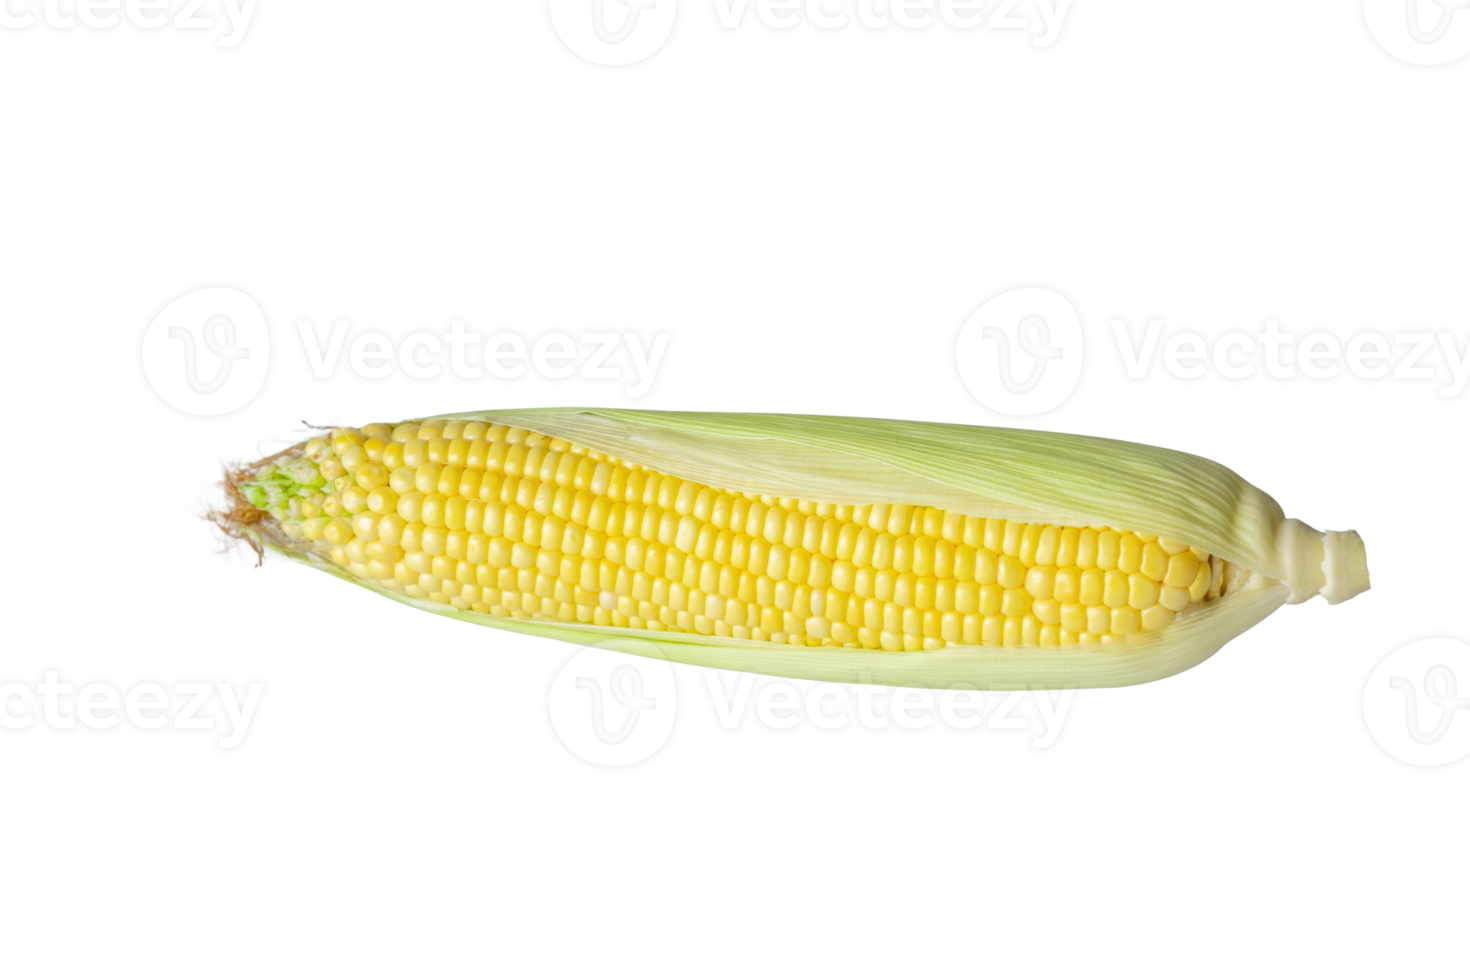corn: (160, 410, 1384, 678)
